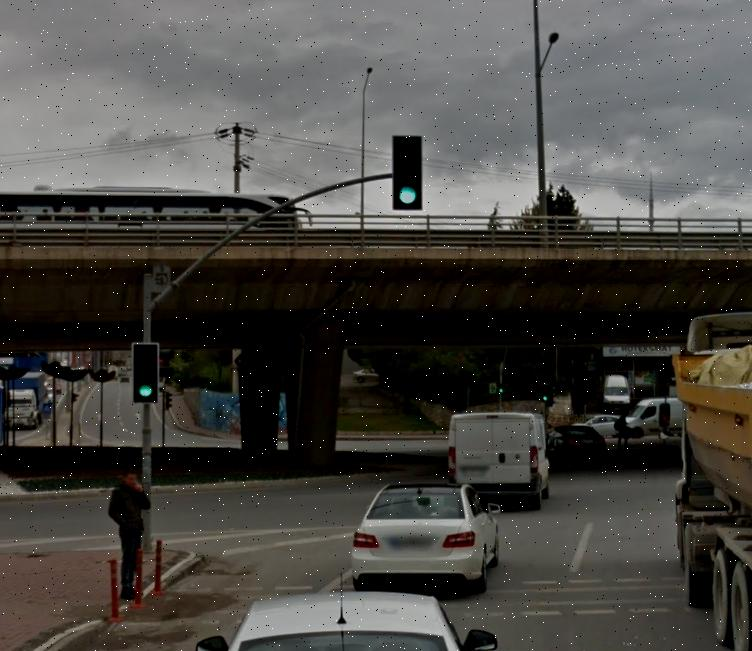greenlight: (394, 135, 425, 210), (134, 344, 160, 401)
